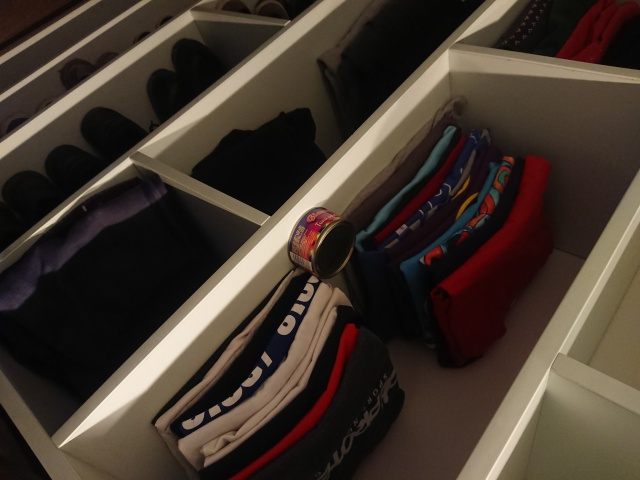Giana Tuna Salad Mexico 185g: (286, 205, 359, 284)
